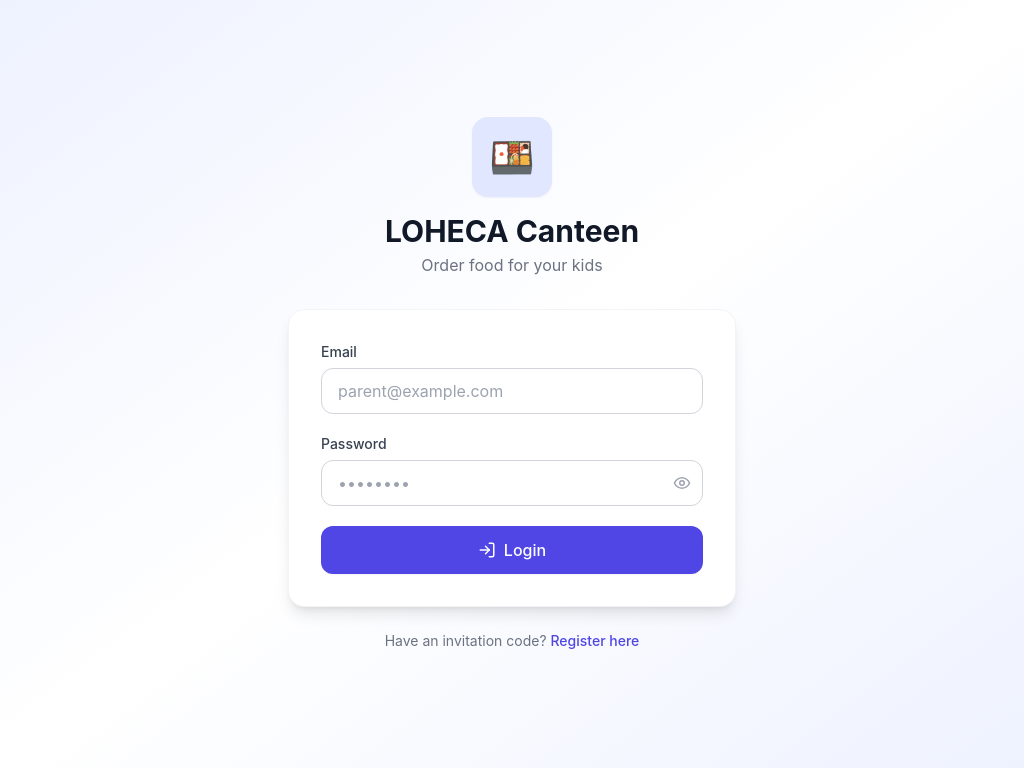
Login Page › Loading State › disables button while loading
The image size is (1024, 768).
In the field labelled "Email": (512, 391) [321,368,703,414], type "test@test.com"
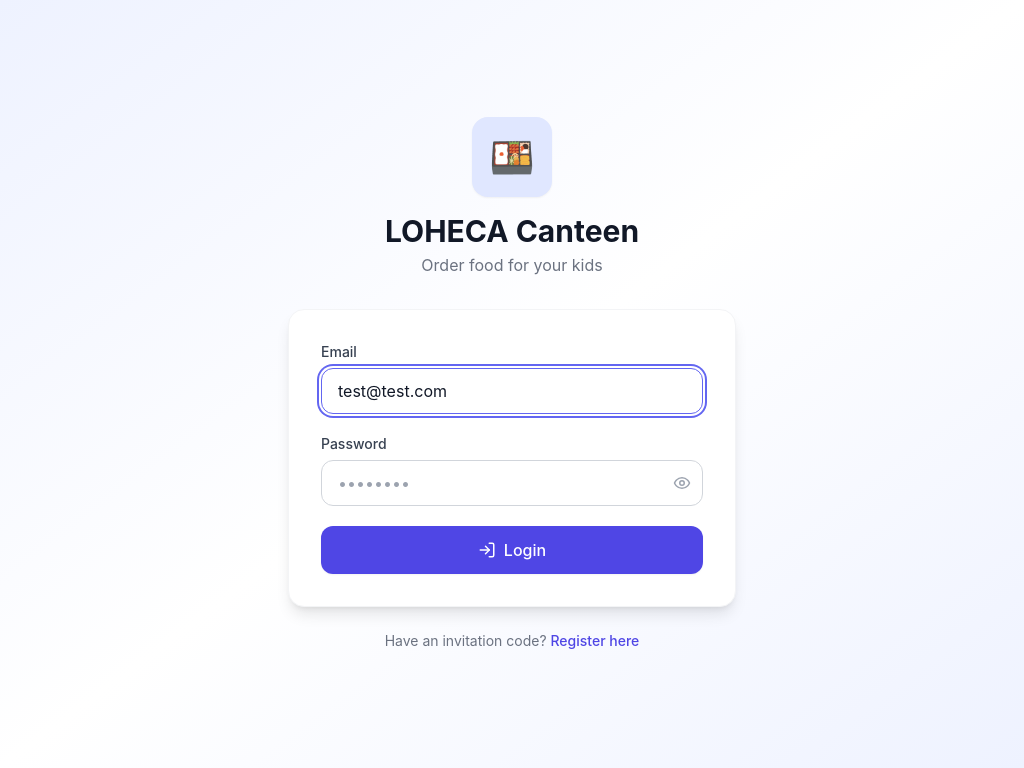
In the password field labelled "Password": (512, 483) [321,460,703,506], type "password"
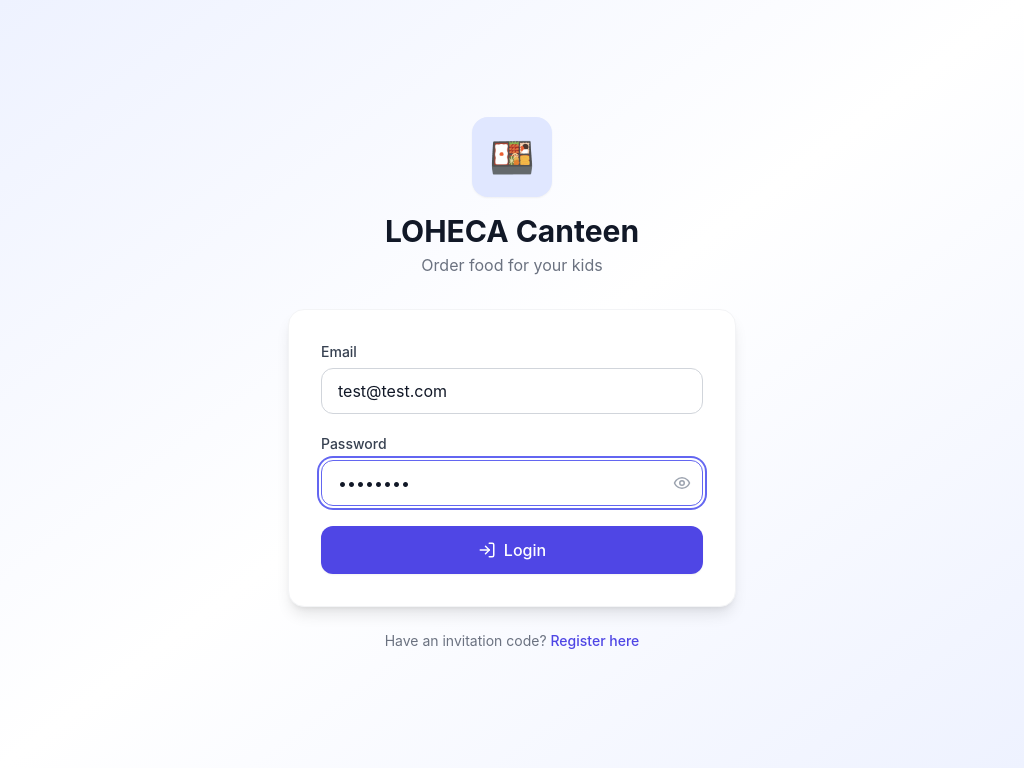
Click the button "Login": (512, 550) [321,526,703,574]
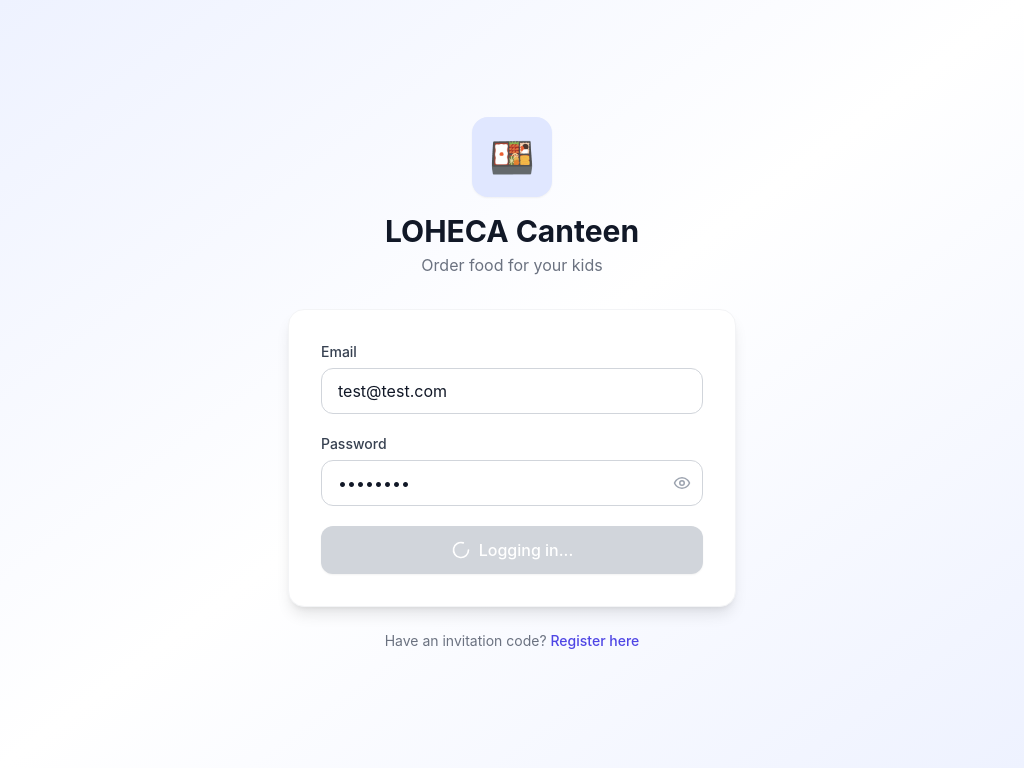
Now the button "Logging in..." is disabled, box [321,526,703,574]
